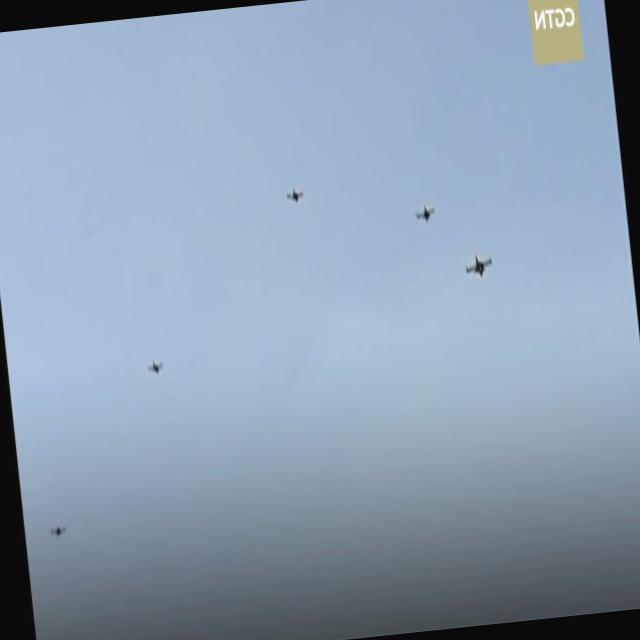drone: (462, 250, 494, 282), (414, 204, 437, 227), (147, 355, 164, 376), (287, 186, 306, 204), (50, 522, 66, 539)
